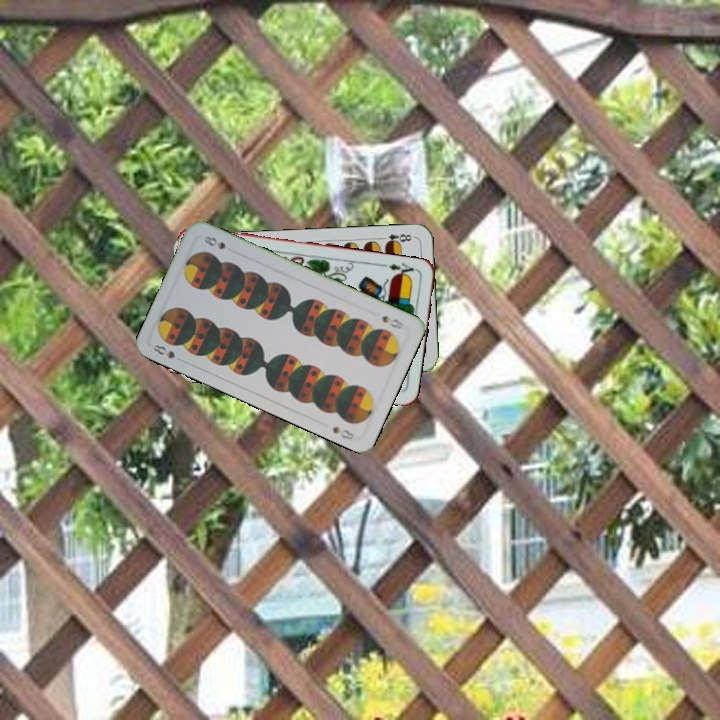E8: (376, 230, 417, 248)
EA: (385, 259, 420, 280)
S8: (149, 340, 187, 365), (378, 311, 407, 332)
